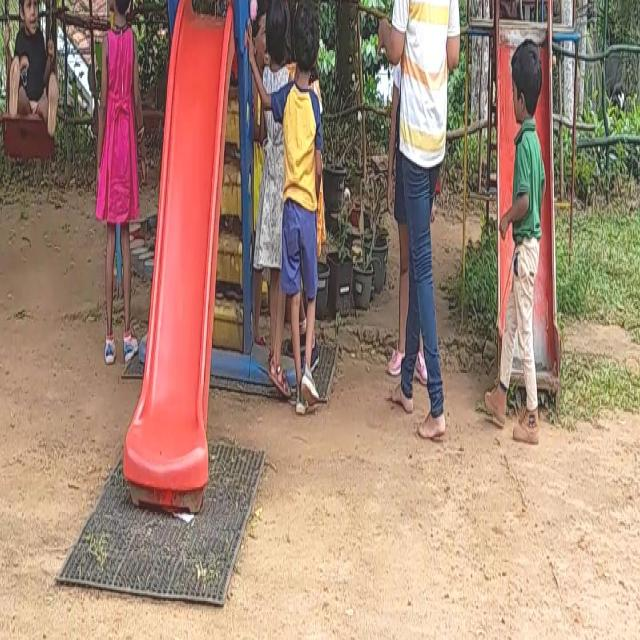adult: (389, 0, 465, 460)
child: (479, 32, 555, 460), (276, 1, 334, 420), (90, 0, 147, 379), (7, 0, 61, 165)
